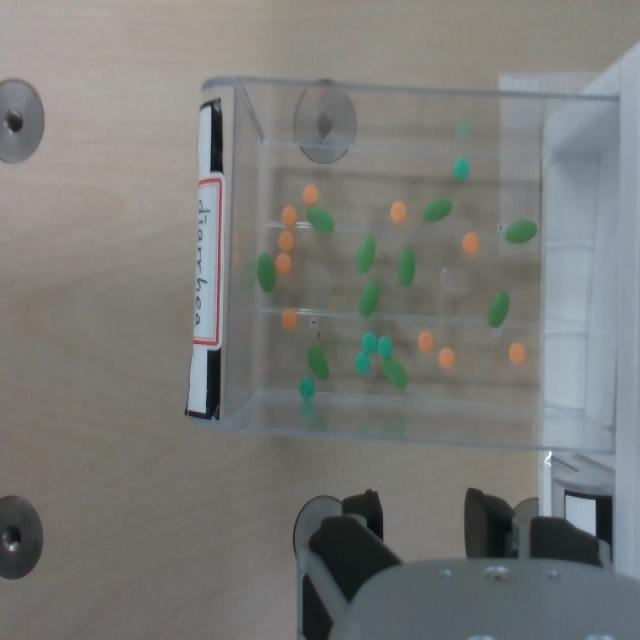famodine: (453, 156, 471, 180), (453, 157, 470, 181), (362, 332, 378, 354), (377, 336, 392, 359), (377, 336, 393, 357), (299, 376, 315, 397), (300, 376, 314, 400), (362, 332, 376, 355), (355, 352, 370, 373), (355, 353, 370, 373)
otillen_tab: (488, 289, 510, 328), (505, 219, 539, 244), (355, 235, 377, 273), (382, 357, 408, 389), (307, 204, 335, 233), (422, 196, 453, 222), (307, 346, 330, 380), (505, 220, 537, 244), (488, 291, 509, 327), (359, 280, 380, 316), (383, 357, 407, 388), (257, 251, 275, 292), (307, 205, 334, 232), (307, 347, 329, 380), (356, 236, 376, 272), (257, 252, 275, 291), (360, 280, 379, 316), (398, 248, 416, 286), (423, 197, 451, 221), (399, 248, 415, 285)
samsung_octylonium_tab: (508, 341, 526, 364), (462, 231, 479, 255), (463, 231, 480, 254), (509, 341, 526, 364), (417, 329, 434, 352), (278, 229, 293, 255), (390, 200, 406, 224), (281, 309, 299, 330), (281, 205, 298, 227), (438, 347, 455, 369), (281, 205, 297, 228), (275, 252, 291, 275), (281, 308, 297, 331), (417, 330, 434, 351), (302, 184, 319, 204), (274, 253, 291, 273), (302, 184, 318, 205), (278, 231, 294, 251), (391, 201, 406, 222), (439, 347, 454, 367)
